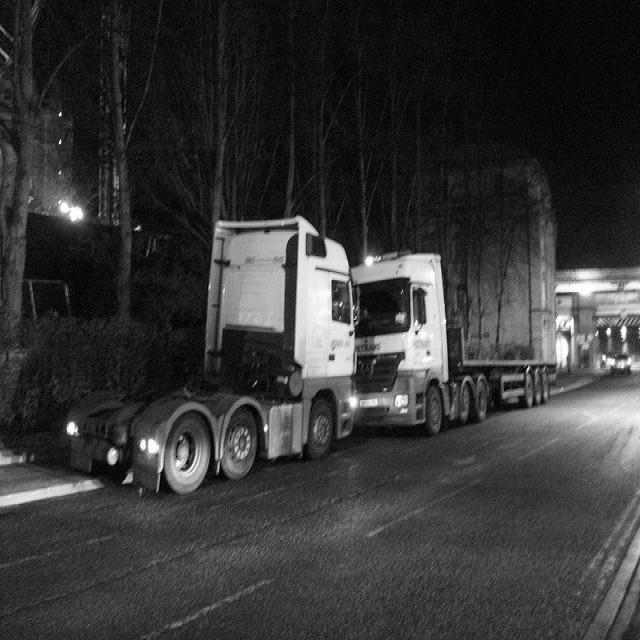car: (609, 349, 632, 374)
truck: (63, 213, 359, 492), (353, 245, 567, 428)
